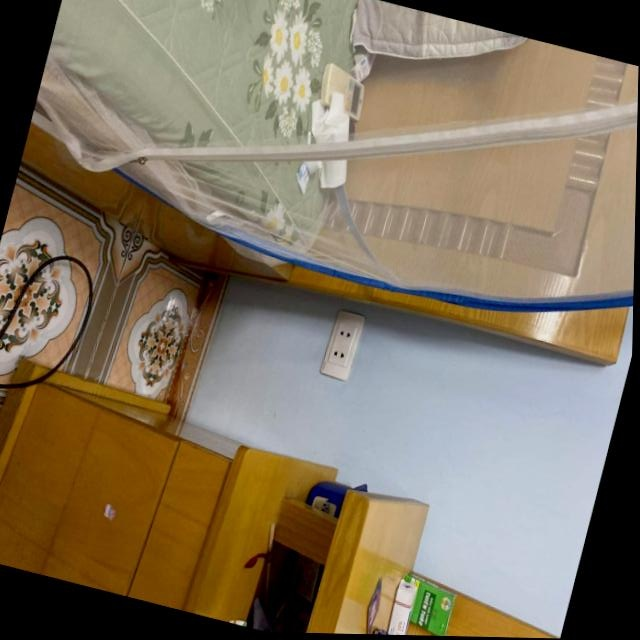outlet: (319, 307, 368, 382)
